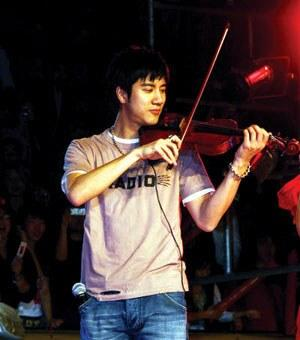person: (62, 47, 270, 340)
